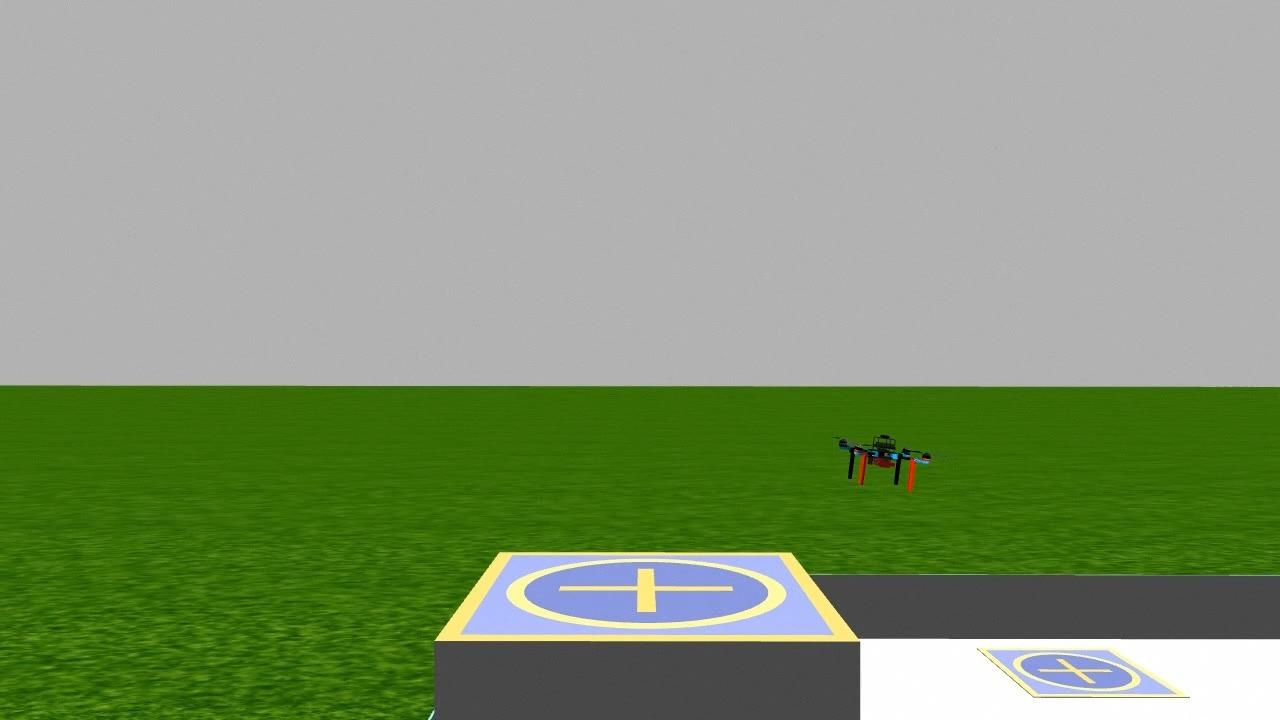UAV: (800, 423, 969, 499)
